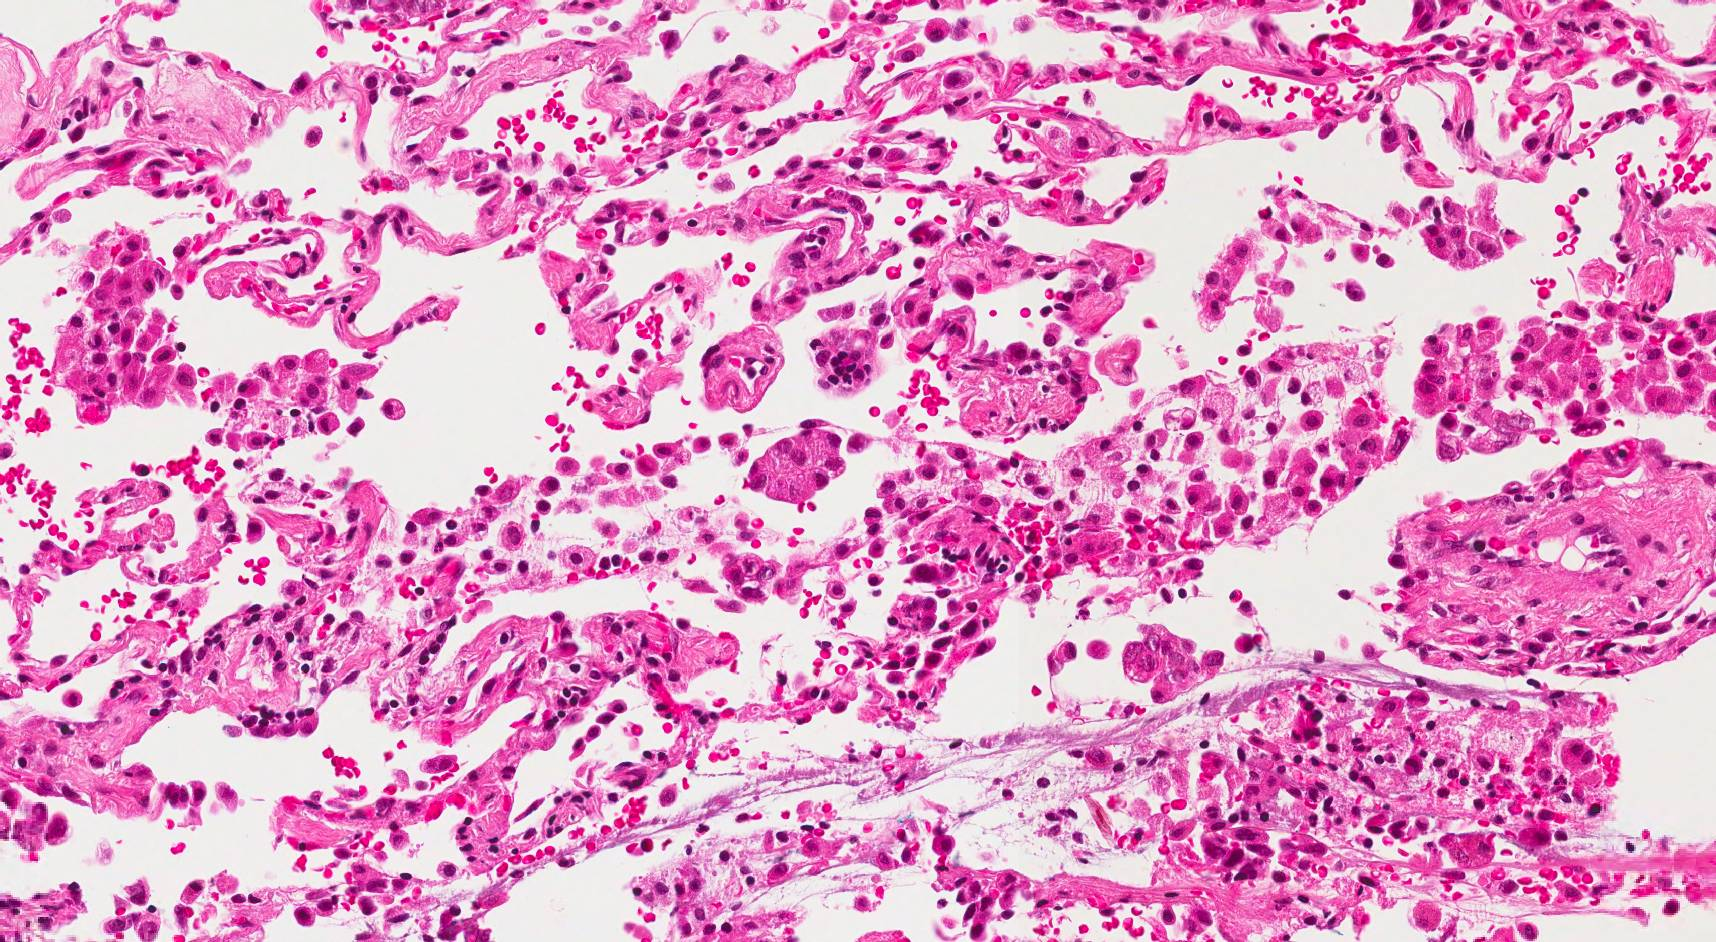stas: (1119, 620, 1231, 701), (740, 429, 846, 506)
